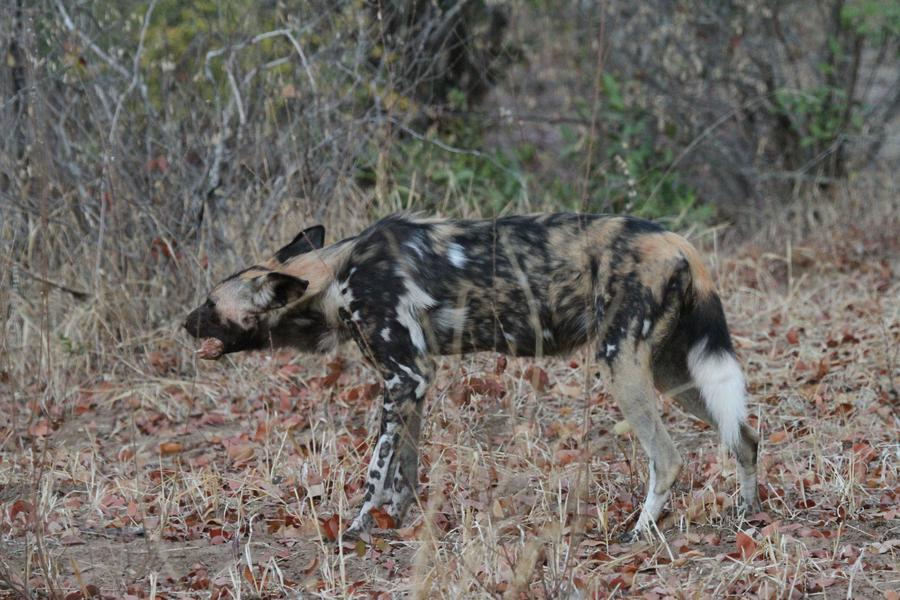wilddog: (205, 197, 752, 429)
